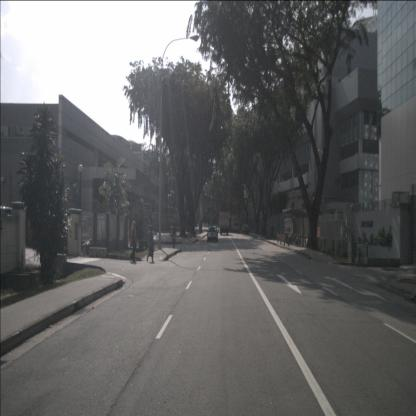human-pedestrian-adult: (129, 220, 137, 262), (146, 225, 154, 263), (171, 226, 176, 249), (270, 223, 274, 238), (261, 224, 264, 237)
vehicle-car: (207, 226, 218, 242), (241, 223, 249, 234)
vehicle-truck: (219, 214, 229, 235), (231, 218, 240, 233)
